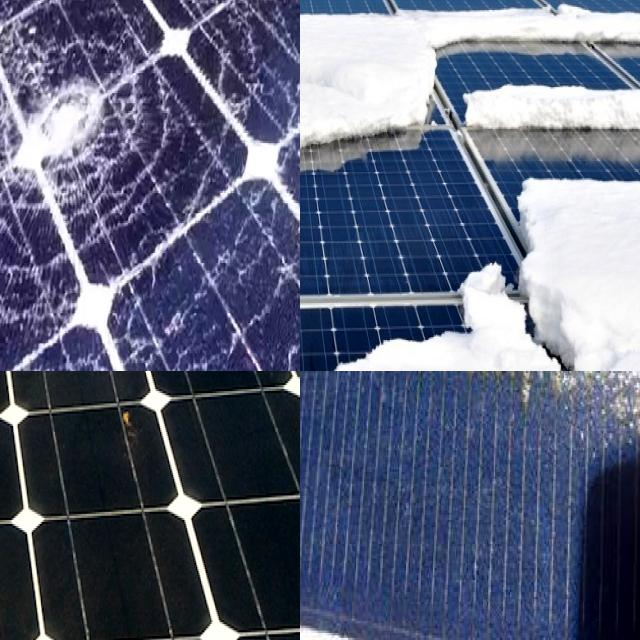hotspot: (0, 19, 134, 198)
panel: (500, 164, 640, 371), (300, 0, 436, 147), (300, 172, 389, 371), (460, 70, 640, 156), (440, 0, 640, 73), (300, 0, 376, 35)
shadow: (384, 371, 640, 486), (103, 373, 163, 468), (0, 412, 38, 554), (0, 371, 67, 429), (0, 407, 24, 550), (300, 371, 354, 419), (300, 371, 326, 462)
